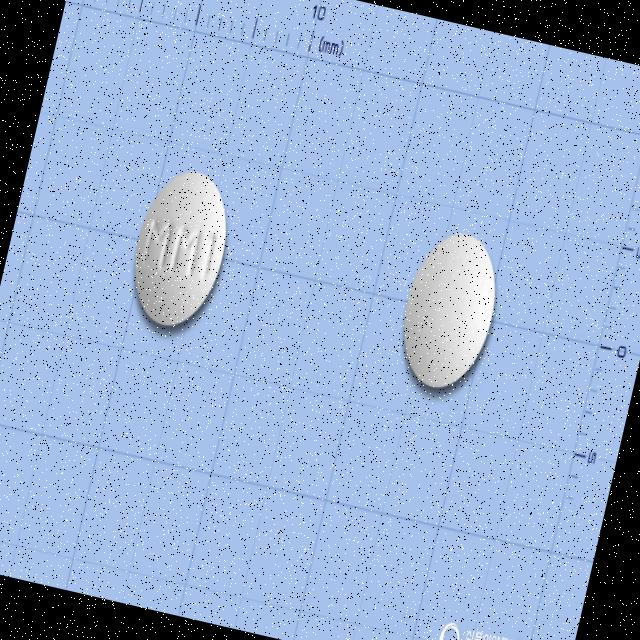Leflunomide - 20mg: (120, 160, 242, 336), (388, 222, 510, 398)
